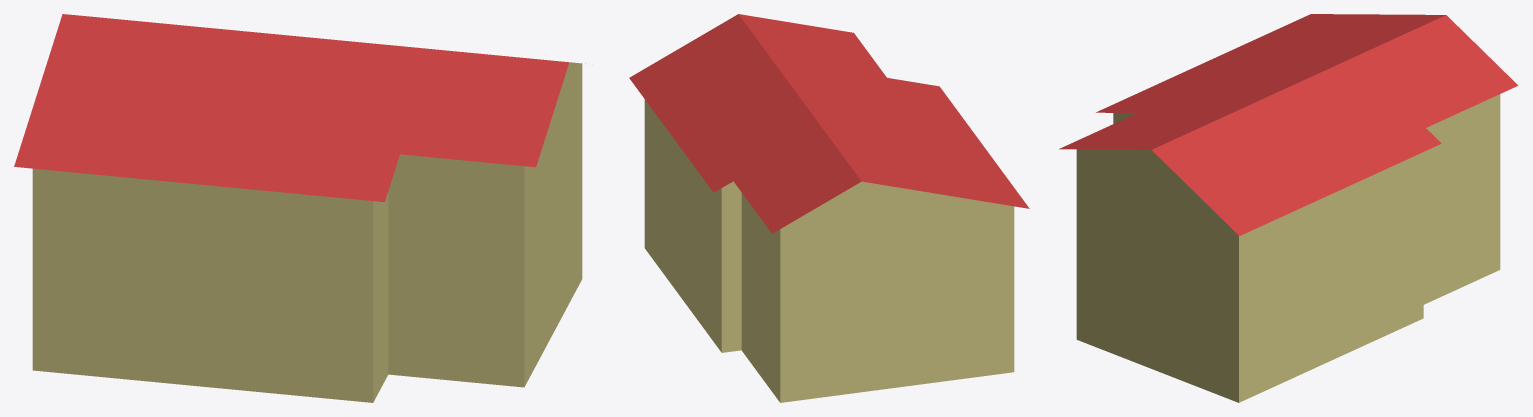
3 renders of one model, left to right at view 1: azimuth 30°, elevation 25°; view 2: azimuth 150°, elevation 25°; view 3: azimuth 270°, elevation 25°, orthographic. The views are drawn at different scales.
Size of the model in its own units: 20.33 by 17.79 by 9.66.
